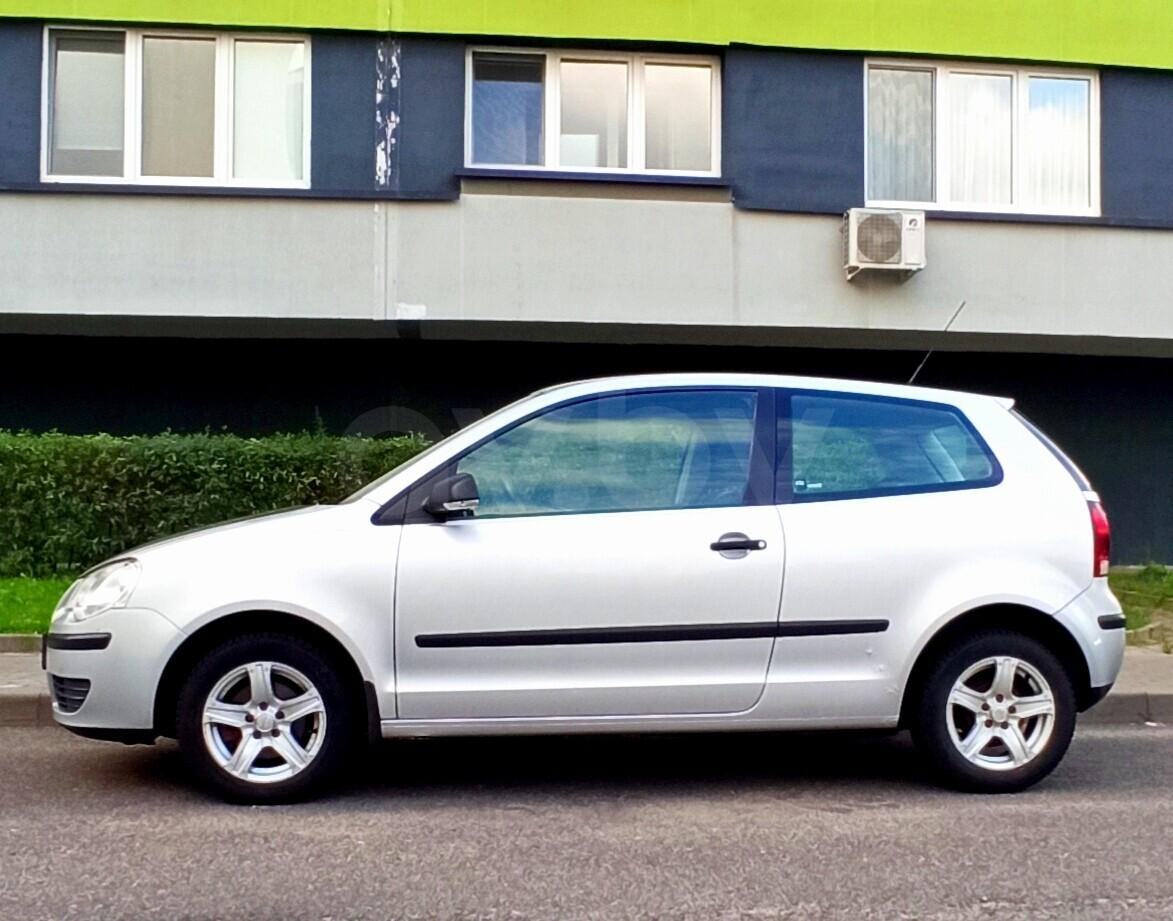Polo_2005-2009: (35, 349, 1124, 834)
